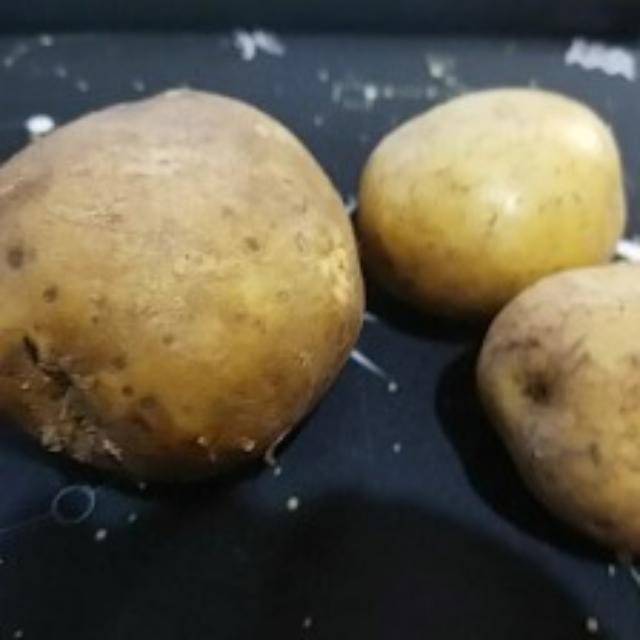Damaged potato: (5, 84, 372, 492), (474, 256, 640, 574)
Potato: (352, 78, 630, 320)
